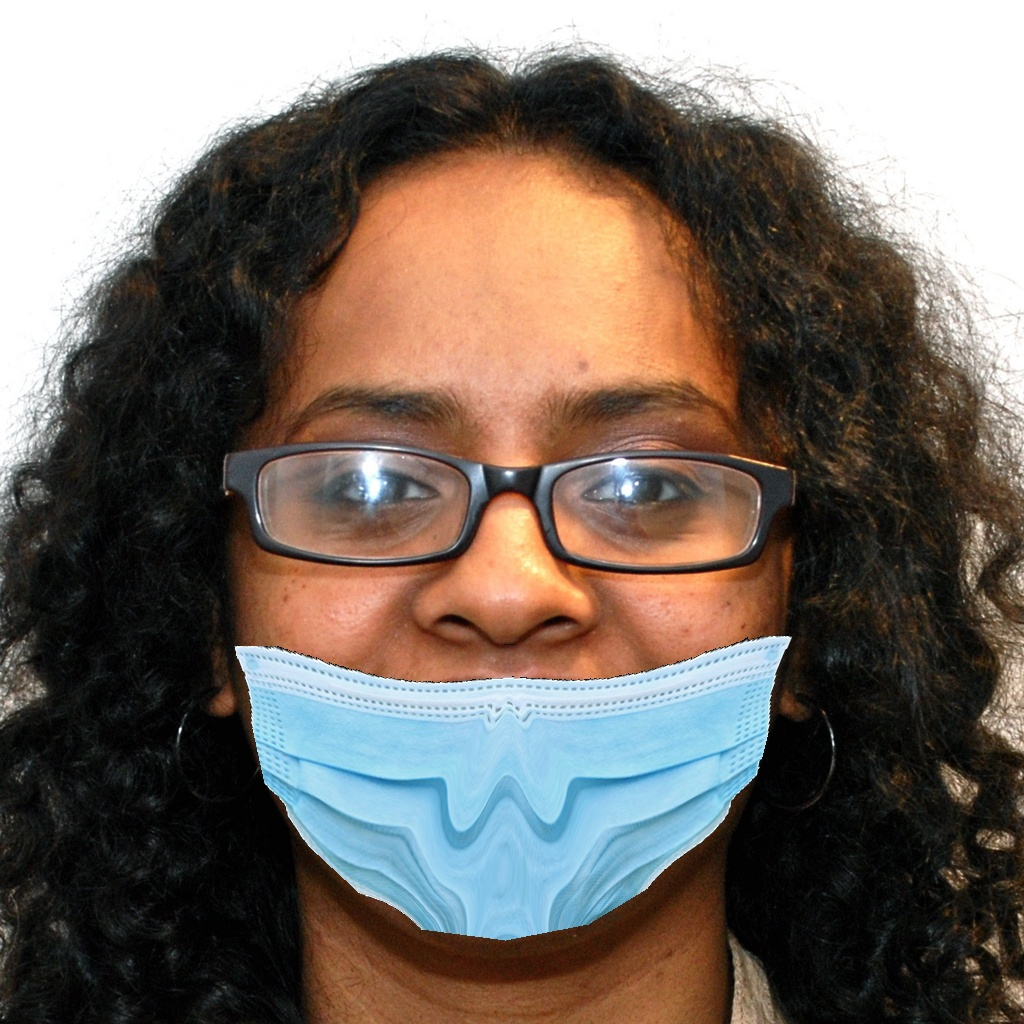mascarilla_mal_puesta: (229, 373, 787, 995)
